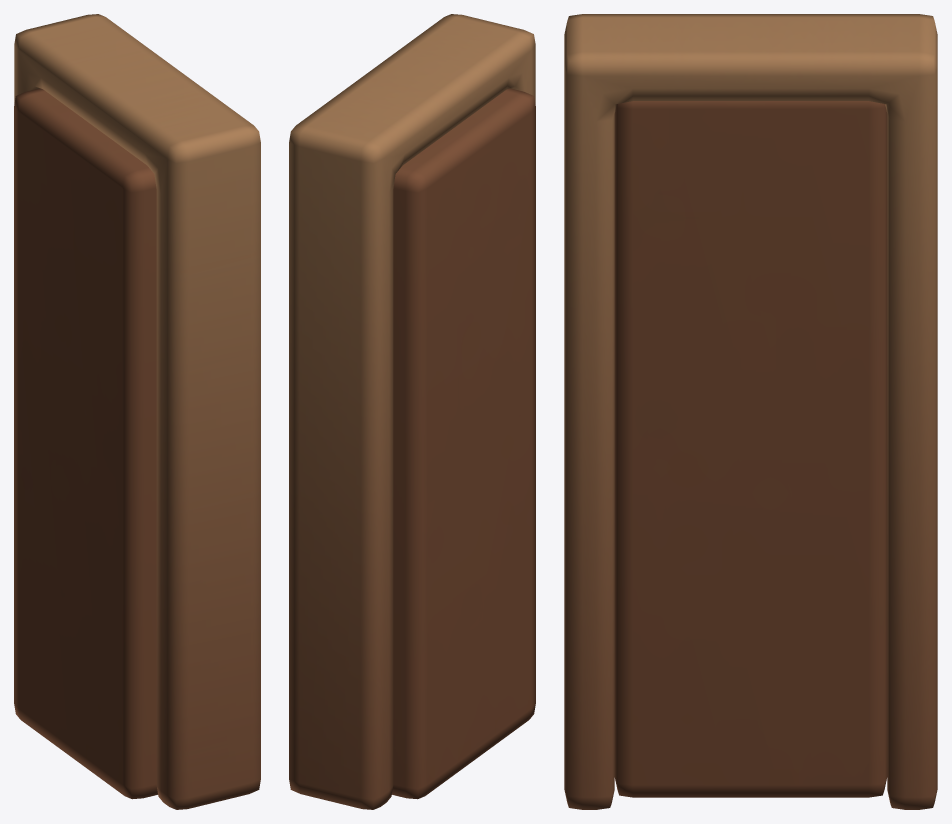
The model's file is SM_Clay_Door_05.fbx.
The picture shows the model from 3 angles, left to right: view 1: azimuth 30°, elevation 25°; view 2: azimuth 150°, elevation 25°; view 3: azimuth 270°, elevation 25°; orthographic projection. The views are drawn at different scales.
Parts seen in each view (by area): view 1: SM_Clay_Door_05; view 2: SM_Clay_Door_05; view 3: SM_Clay_Door_05.
Part boxes in pixels (left/top/right/bottom): SM_Clay_Door_05: left=14, top=14, right=260, bottom=809; SM_Clay_Door_05: left=289, top=14, right=535, bottom=809; SM_Clay_Door_05: left=564, top=14, right=937, bottom=809.
Bounding box in the file's own units: 0.1148 × 0.653 × 0.2927.
1 material, 1 textured.
